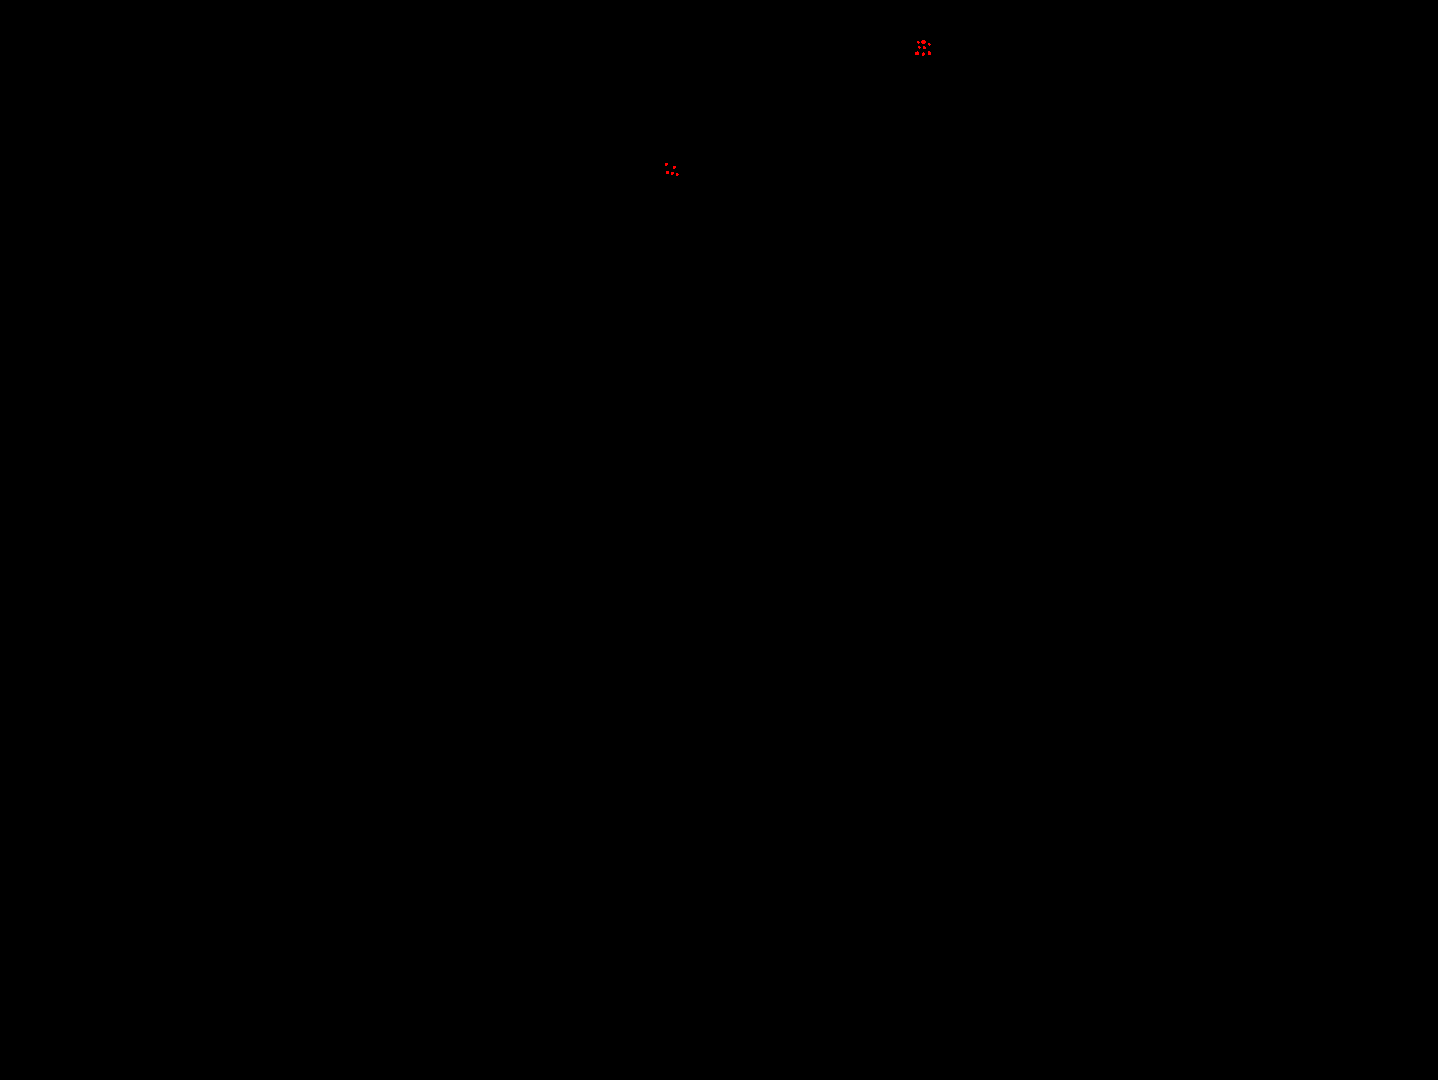Target: (921, 40, 927, 44), (928, 43, 931, 47), (915, 51, 919, 54), (928, 51, 931, 54), (922, 52, 925, 56), (673, 166, 676, 169), (676, 172, 679, 176), (917, 41, 920, 44), (917, 47, 921, 49), (923, 47, 927, 49), (665, 163, 668, 166), (666, 171, 669, 174), (671, 172, 674, 175)
